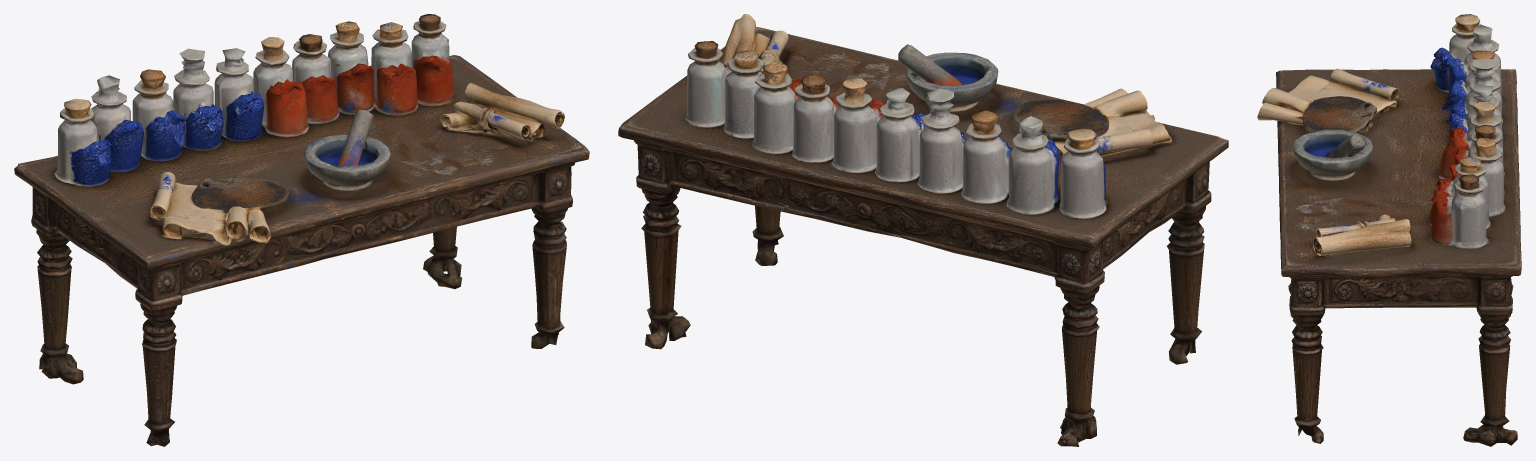
File: prop_s3_apothecary_table.glb
3 views of the same model, side by side, from view 1: azimuth 30°, elevation 25°; view 2: azimuth 150°, elevation 25°; view 3: azimuth 270°, elevation 25° (orthographic). The views are drawn at different scales.
Visible parts, largest first — view 1: tripo_node_8e4aad74-0330-4a88-9c71-173fe1f54d39; view 2: tripo_node_8e4aad74-0330-4a88-9c71-173fe1f54d39; view 3: tripo_node_8e4aad74-0330-4a88-9c71-173fe1f54d39.
Part boxes in pixels (bbox=[...]): tripo_node_8e4aad74-0330-4a88-9c71-173fe1f54d39: bbox=[14, 14, 589, 446]; tripo_node_8e4aad74-0330-4a88-9c71-173fe1f54d39: bbox=[618, 14, 1228, 446]; tripo_node_8e4aad74-0330-4a88-9c71-173fe1f54d39: bbox=[1257, 14, 1521, 446].
Size of the model in its own units: 1.01 by 0.6206 by 0.5603.
Materials: 1 (1 with a texture image).
